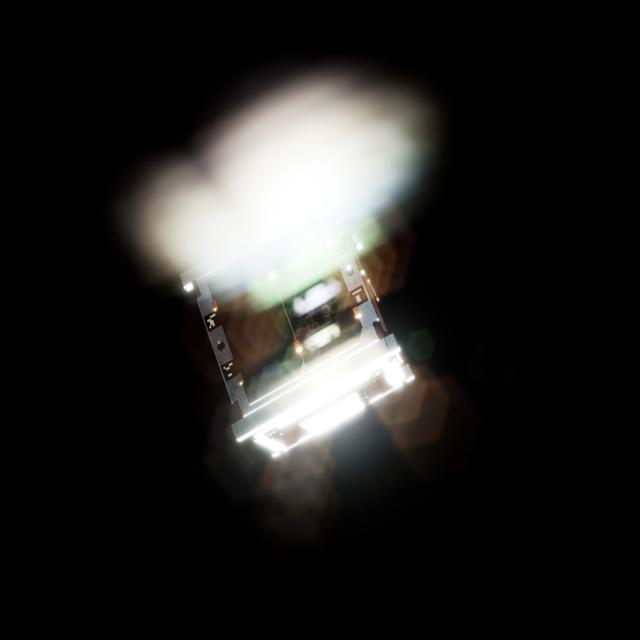medium_debris: (179, 198, 430, 468)
